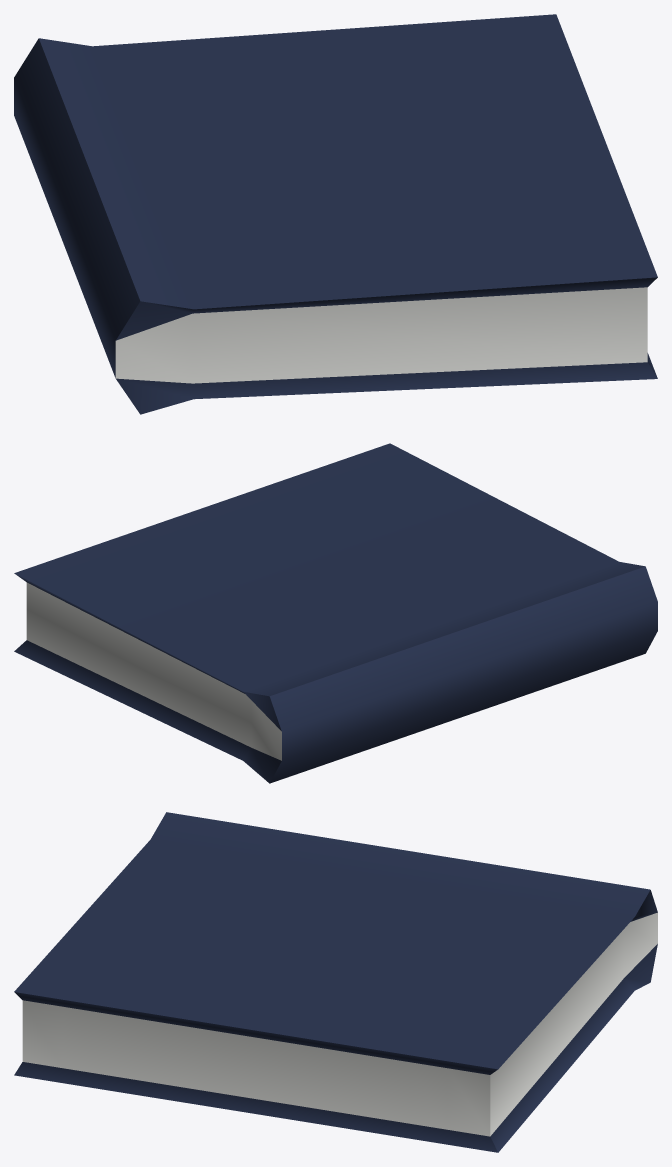
Rendered from Blackbook_Mesh.fbx.
3 renders of one model, top to bottom at view 1: azimuth 30°, elevation 25°; view 2: azimuth 150°, elevation 25°; view 3: azimuth 270°, elevation 25°, orthographic. The views are drawn at different scales.
Visible parts, largest first — view 1: pCube13; view 2: pCube13; view 3: pCube13.
Part boxes in pixels (x1,y1,x2,y2): pCube13: [14, 14, 657, 414]; pCube13: [14, 443, 657, 783]; pCube13: [14, 812, 657, 1152].
Size of the model in its own units: 5.89 by 1 by 6.27.
